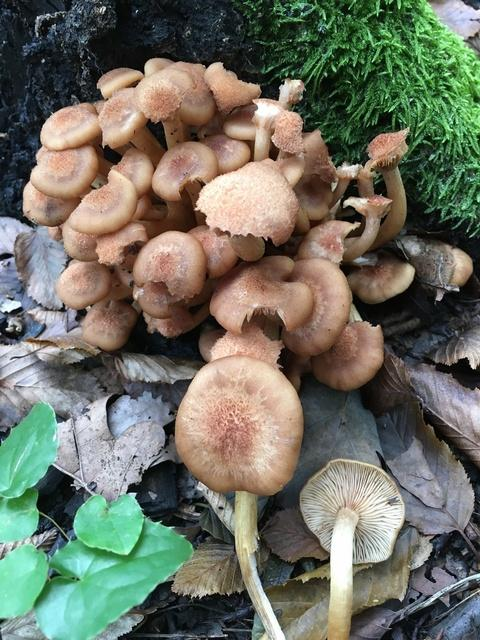Edible Mushroom: (29, 53, 412, 387), (173, 353, 304, 638), (298, 457, 405, 638)
